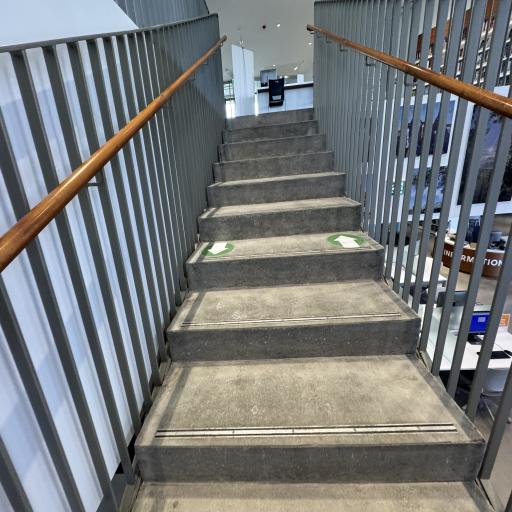Stairs: (134, 109, 492, 512), (137, 342, 485, 483), (167, 280, 420, 361), (186, 231, 384, 291), (133, 481, 493, 512), (198, 197, 362, 241), (207, 171, 345, 207), (214, 152, 334, 182), (218, 134, 326, 162), (223, 120, 318, 144)
